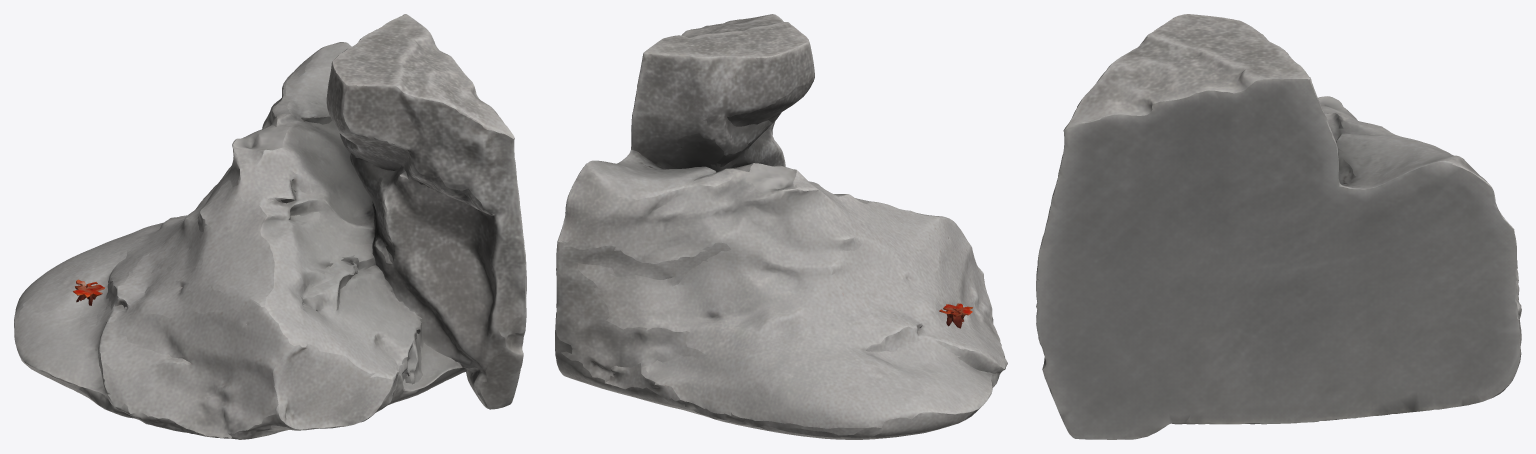
Rendered from tex_mesh.glb.
The picture shows the model from 3 angles, left to right: view 1: azimuth 30°, elevation 25°; view 2: azimuth 150°, elevation 25°; view 3: azimuth 270°, elevation 25°; orthographic projection. The views are drawn at different scales.
Parts seen in each view (by area): view 1: world; view 2: world; view 3: world.
Boxes of the visible parts, x1,y1,x2,y2 form: world: (14, 14, 526, 439); world: (555, 14, 1007, 439); world: (1036, 14, 1521, 439).
Size of the model in its own units: 0.35 by 0.2891 by 0.3521.
1 material, 1 textured.
